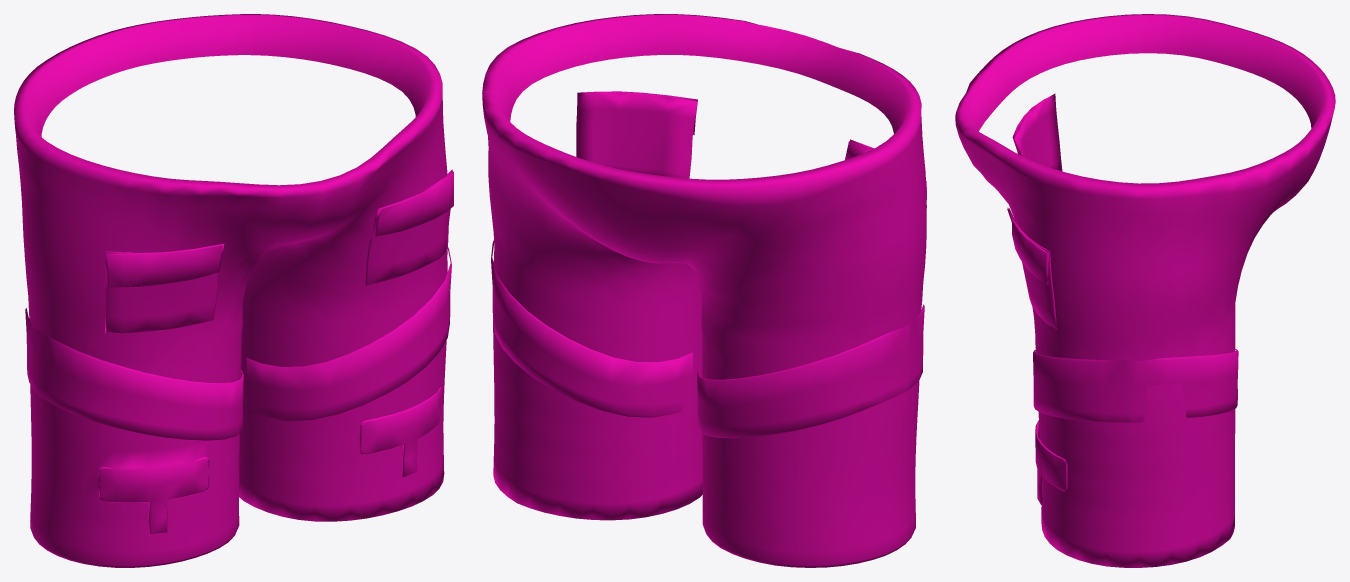
The model's file is hani_pants.gltf.
3 views of the same model, side by side, from view 1: azimuth 30°, elevation 25°; view 2: azimuth 150°, elevation 25°; view 3: azimuth 270°, elevation 25° (orthographic). The views are drawn at different scales.
Parts seen in each view (by area): view 1: hani_pants; view 2: hani_pants; view 3: hani_pants.
Boxes of the visible parts, x1,y1,x2,y2 form: hani_pants: [14, 14, 453, 567]; hani_pants: [482, 14, 926, 567]; hani_pants: [955, 14, 1335, 567].
Size of the model in its own units: 0.0339 by 0.0325 by 0.0296.
